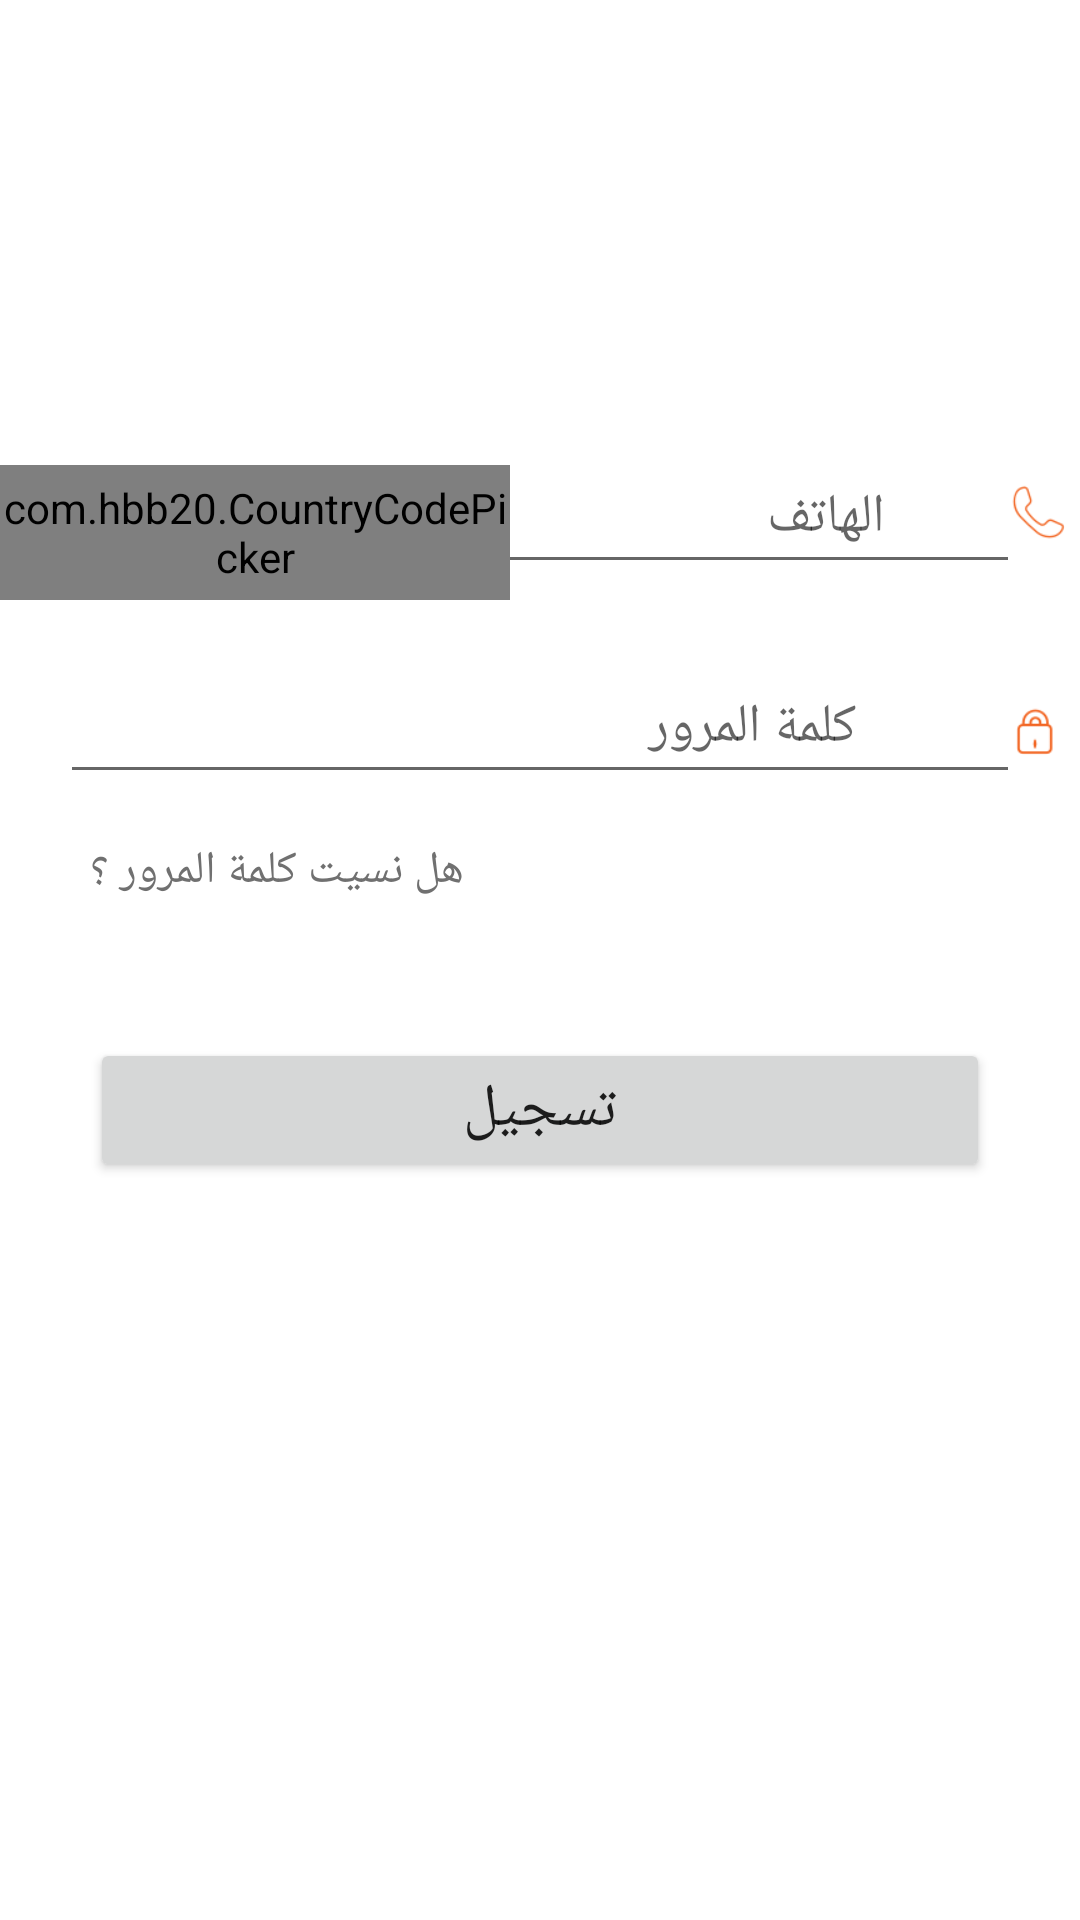

Where icons sit on this 1080x1920 app screen, as (x1, y1, x2, y2):
call: (1013, 486, 1064, 539)
louck: (1017, 709, 1053, 754)
